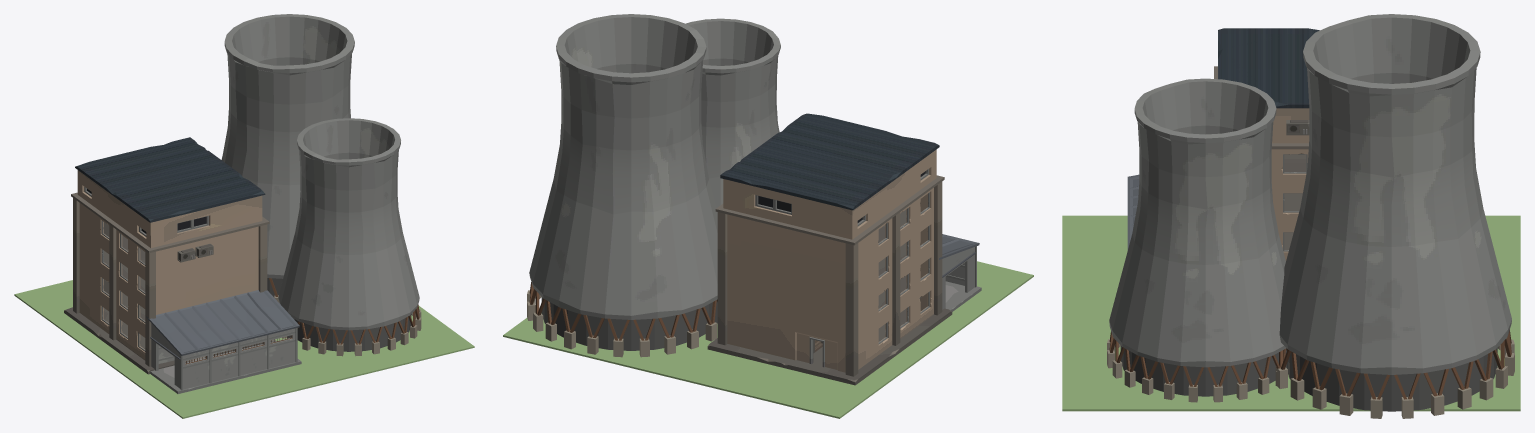
The model's file is nuclear-plant.glb.
The picture shows the model from 3 angles, left to right: view 1: azimuth 30°, elevation 25°; view 2: azimuth 150°, elevation 25°; view 3: azimuth 270°, elevation 25°; orthographic projection. The views are drawn at different scales.
Parts seen in each view (by area): view 1: Nuclear_Reactor, Nuclear_Tower2, Nuclear_Tower, Ground, Nuclear_Containment; view 2: Nuclear_Tower, Nuclear_Reactor, Ground, Nuclear_Tower2, Nuclear_Containment; view 3: Nuclear_Tower, Nuclear_Tower2, Ground, Nuclear_Reactor, Nuclear_Containment.
Part boxes in pixels (left/top/right/bottom): Nuclear_Reactor: left=64, top=137, right=275, bottom=374; Nuclear_Tower2: left=278, top=118, right=421, bottom=356; Nuclear_Tower: left=221, top=14, right=354, bottom=302; Ground: left=14, top=280, right=474, bottom=418; Nuclear_Containment: left=146, top=290, right=301, bottom=393; Nuclear_Tower: left=527, top=14, right=717, bottom=357; Nuclear_Reactor: left=707, top=113, right=952, bottom=385; Ground: left=503, top=261, right=1033, bottom=418; Nuclear_Tower2: left=685, top=18, right=780, bottom=207; Nuclear_Containment: left=939, top=234, right=981, bottom=311; Nuclear_Tower: left=1275, top=14, right=1514, bottom=418; Nuclear_Tower2: left=1107, top=78, right=1289, bottom=402; Ground: left=1062, top=215, right=1520, bottom=411; Nuclear_Reactor: left=1214, top=28, right=1319, bottom=260; Nuclear_Containment: left=1127, top=174, right=1139, bottom=250.
Bounding box in the file's own units: 33.59 × 24.5 × 32.
Materials: 2 (1 with a texture image).
